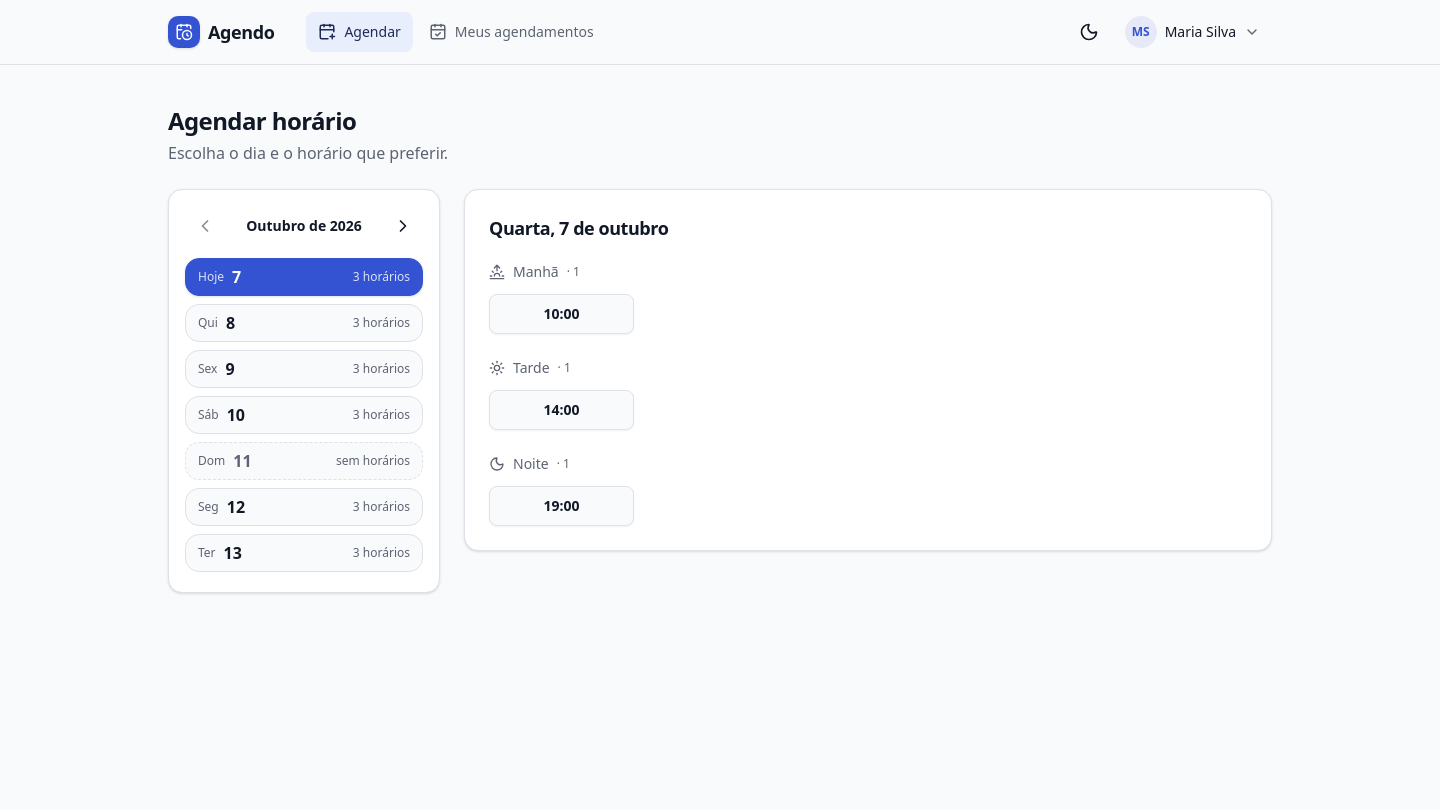
Test: BookPage › closes and refreshes the slots when the slot was just taken (409 SLOT_TAKEN)
This screenshot has width=1440, height=810.
Click the button "10:00" at {"x": 562, "y": 314}, box [489, 294, 634, 334]
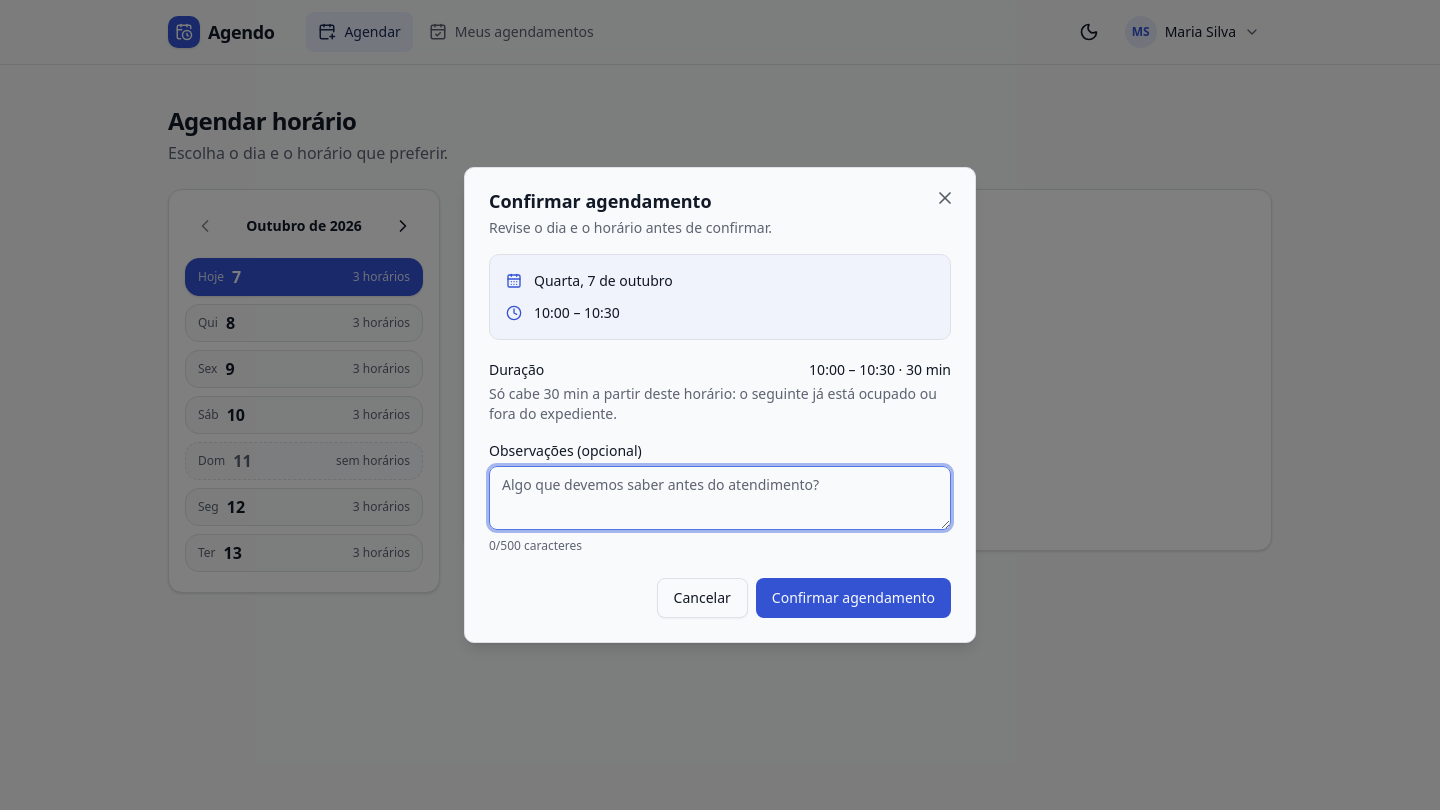
Click the button "Confirmar agendamento" at {"x": 853, "y": 598}, box [756, 578, 951, 618]
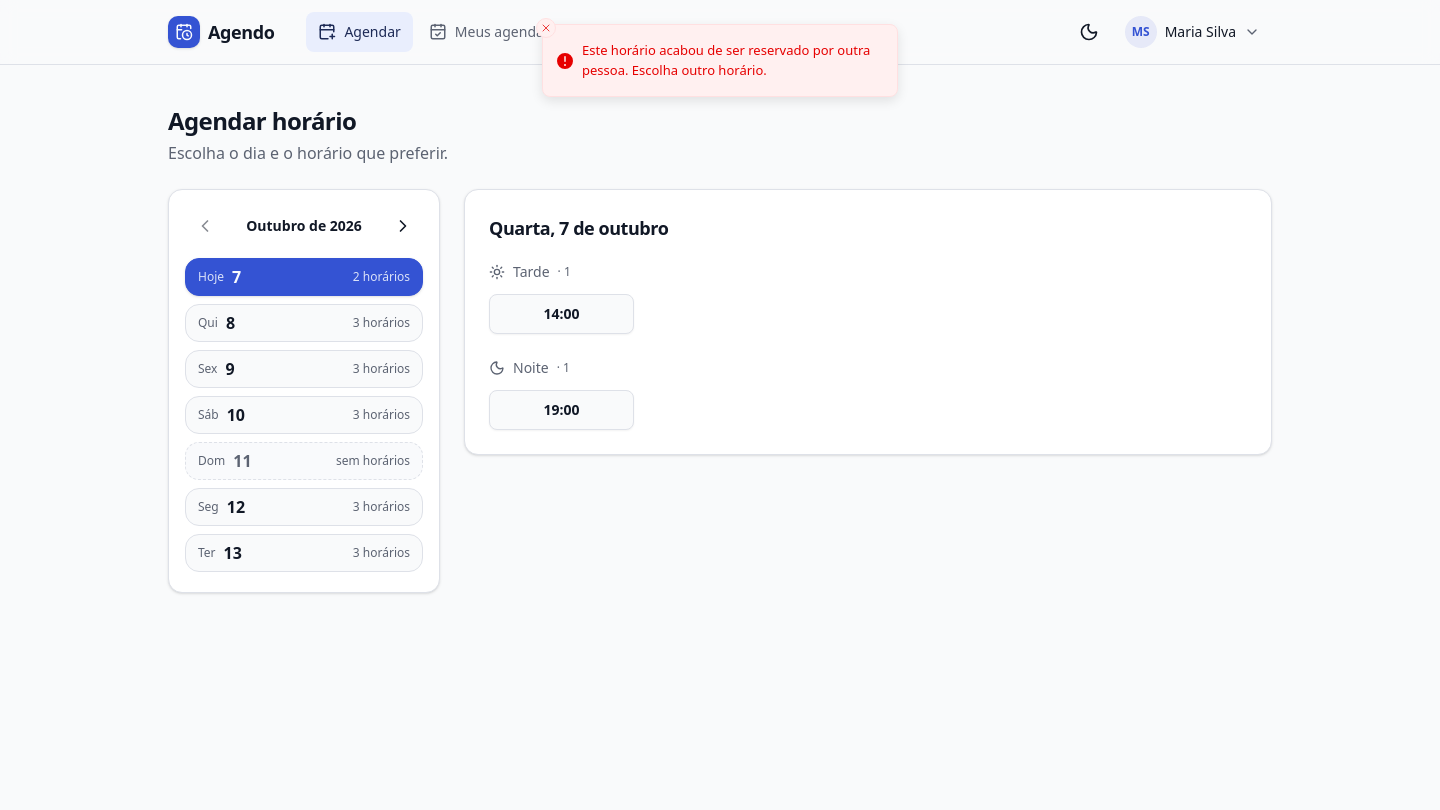
Expected: the text "Este horário acabou de ser reservado" is shown, [582, 41, 870, 78]
Expected: the dialog is gone
Expected: the button "10:00" is gone
